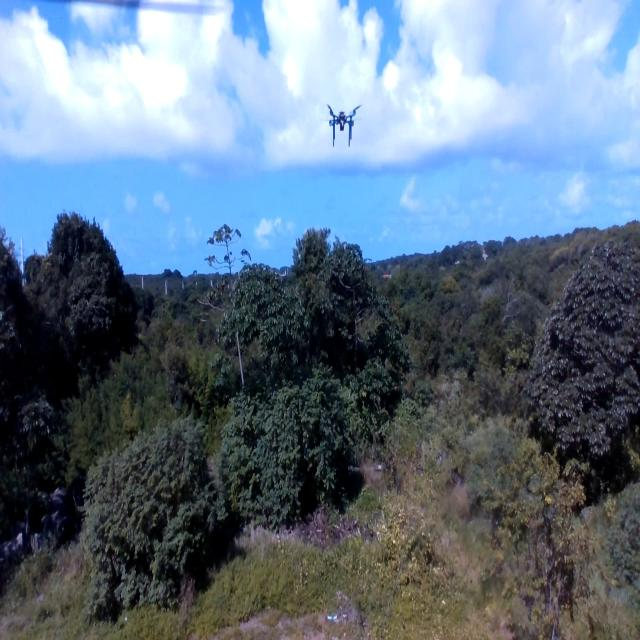-uav-: (314, 88, 368, 157)
